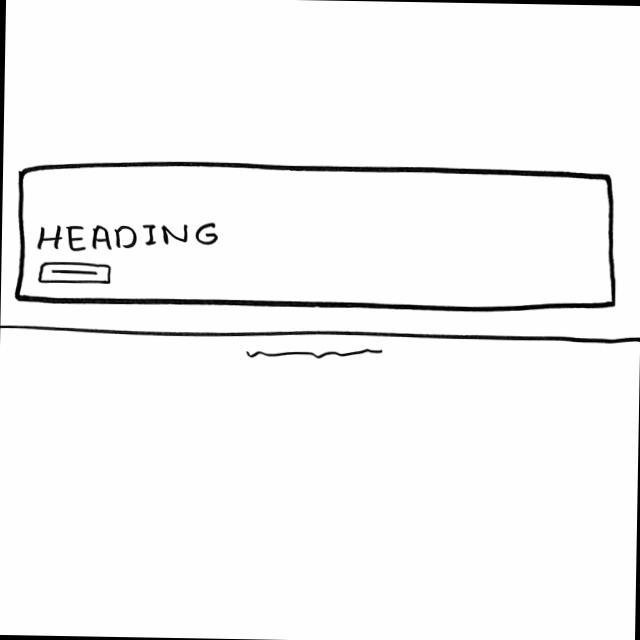container: (13, 160, 622, 314)
icon-button: (36, 261, 114, 287)
label: (36, 221, 224, 254)
text: (244, 347, 384, 362)
